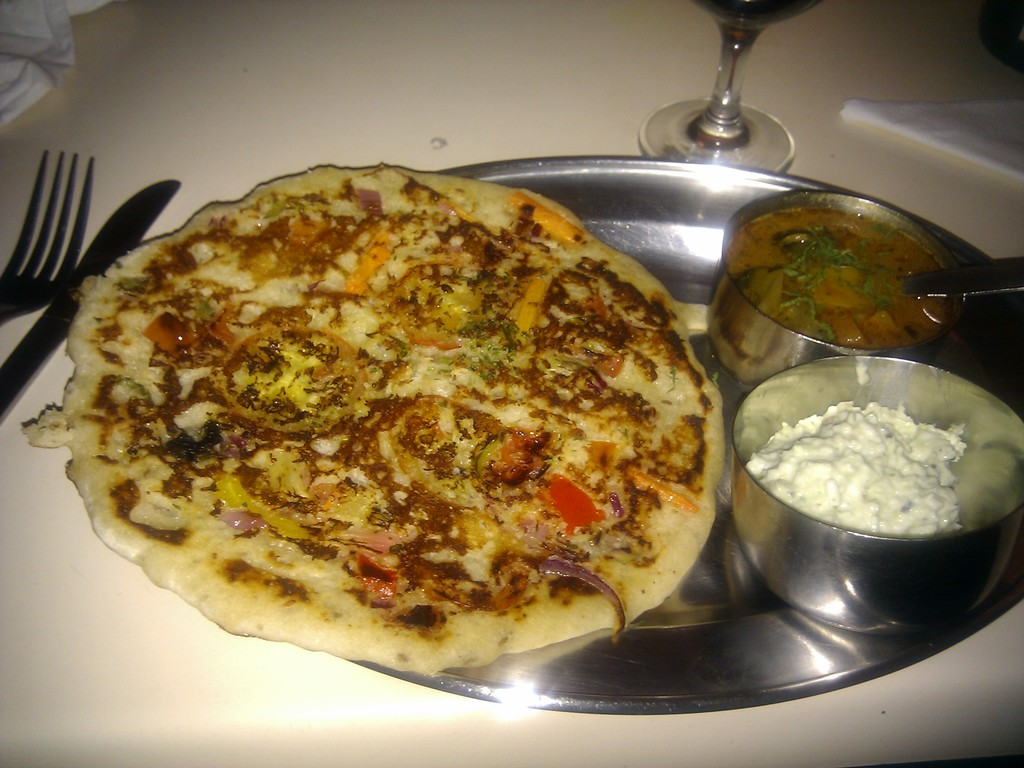Pizza: (24, 147, 725, 681)
